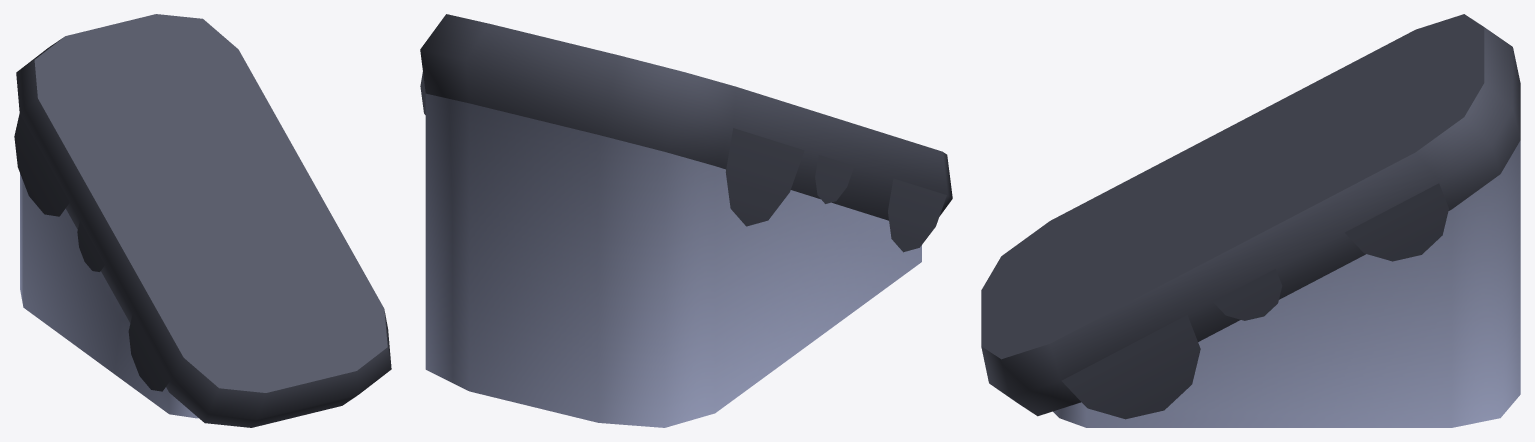
File: block-snow-overhang-large-slope-steep-narrow.glb
The picture shows the model from 3 angles, left to right: view 1: azimuth 30°, elevation 25°; view 2: azimuth 150°, elevation 25°; view 3: azimuth 270°, elevation 25°; orthographic projection. The views are drawn at different scales.
Parts seen in each view (by area): view 1: block-snow-overhang-large-slope-steep-narrow; view 2: block-snow-overhang-large-slope-steep-narrow; view 3: block-snow-overhang-large-slope-steep-narrow.
Boxes of the visible parts, x1,y1,x2,y2 form: block-snow-overhang-large-slope-steep-narrow: (14, 14, 391, 427); block-snow-overhang-large-slope-steep-narrow: (420, 14, 952, 427); block-snow-overhang-large-slope-steep-narrow: (981, 14, 1520, 427).
Bounding box in the file's own units: 1.08 × 1.22 × 1.86.
